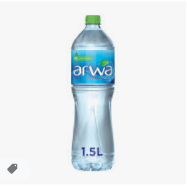Bottle: (70, 15, 115, 172)
